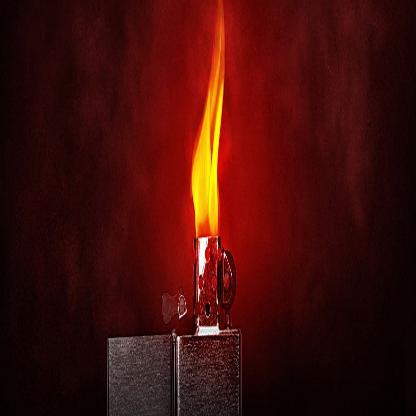fire: (194, 112, 218, 236), (205, 0, 225, 110)
